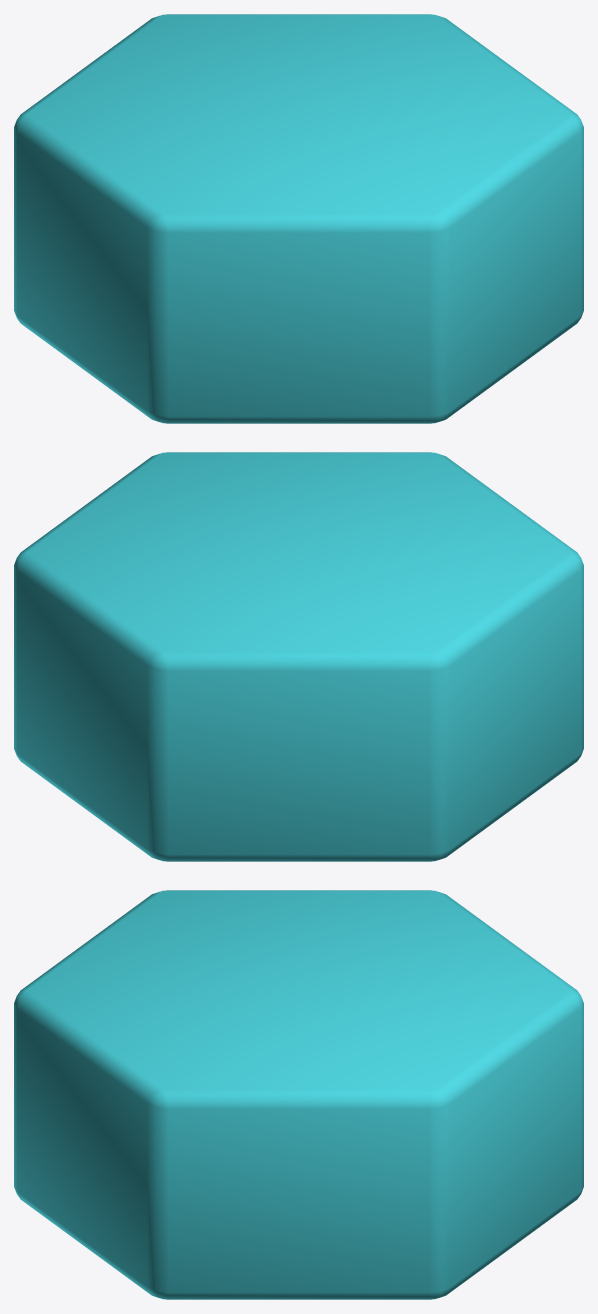
The model's file is water.glb.
3 renders of one model, top to bottom at view 1: azimuth 30°, elevation 25°; view 2: azimuth 150°, elevation 25°; view 3: azimuth 270°, elevation 25°, orthographic.
Visible parts, largest first — view 1: water; view 2: water; view 3: water.
Boxes of the visible parts, x1,y1,x2,y2 form: water: [14, 14, 583, 423]; water: [14, 452, 583, 861]; water: [14, 890, 583, 1299].
Bounding box in the file's own units: 6.93 × 3.2 × 7.9.
